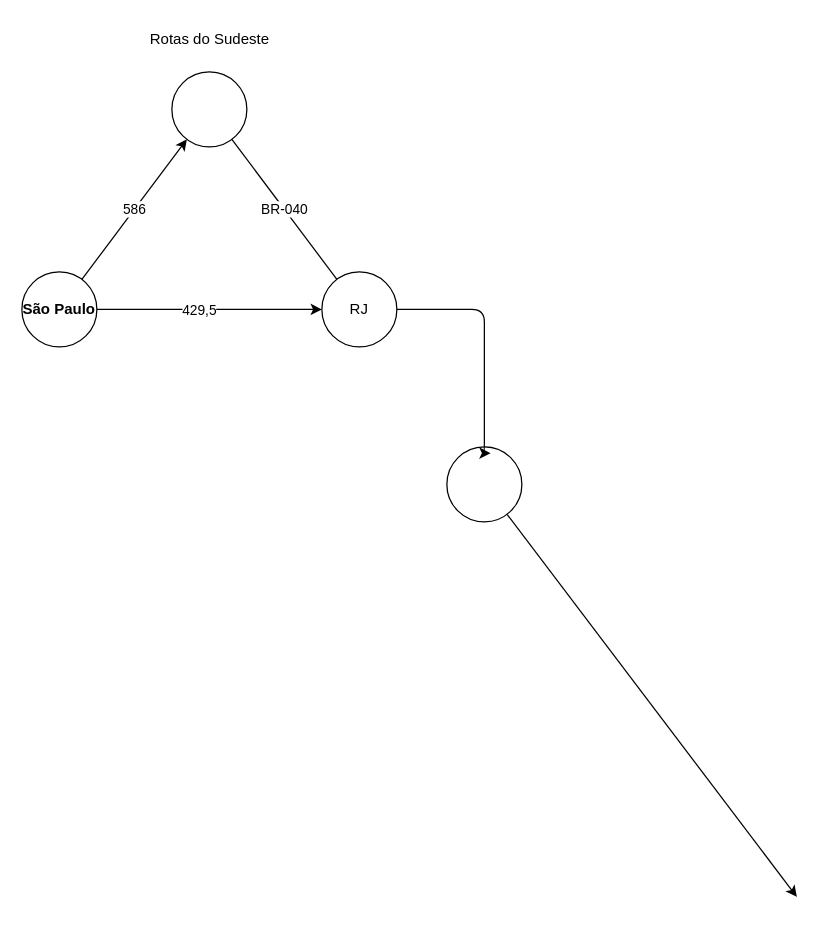
Some shapes in this 829 by 929 pixel diagram are drawn without their labels. Each missing label, with the box of its shape:
BH: (171, 71, 247, 147)
Vitória: (446, 446, 522, 522)
